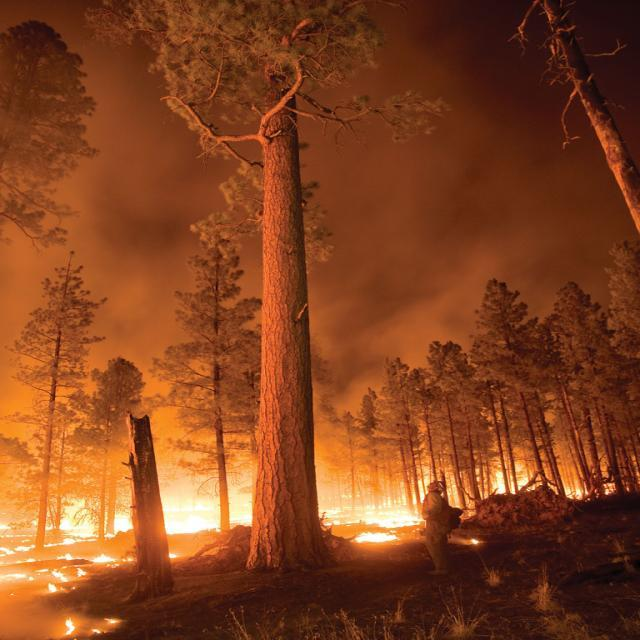Fire: (11, 427, 468, 640)
Smoke: (0, 0, 640, 421)
